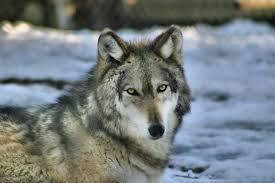Wolf: (1, 24, 193, 183)
